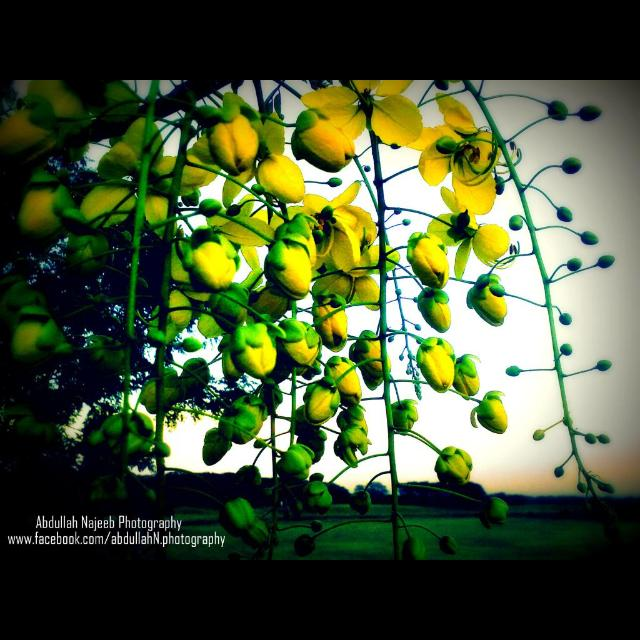Flower: (1, 82, 503, 560), (419, 338, 466, 390)
